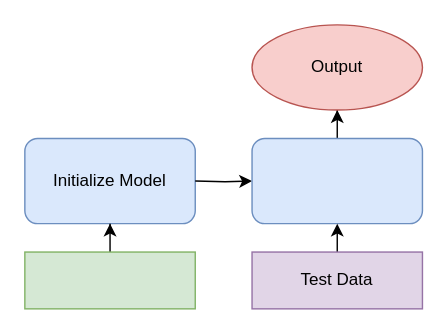
The diagram is 447 pixels wide and 334 high, and some of its shapes have lost their labels. Here are the shapes that lost their labels. From the top down, the box of each, then its label:
(251, 137, 422, 224): Baseline Model
(23, 251, 195, 309): General-domain Data
